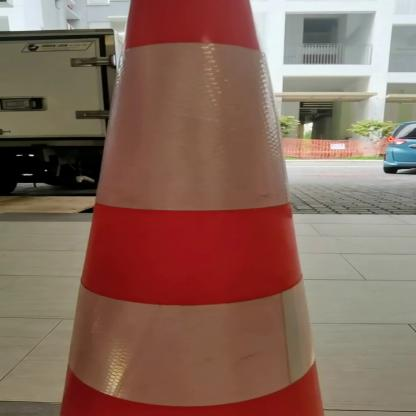cone: (33, 0, 362, 416)
